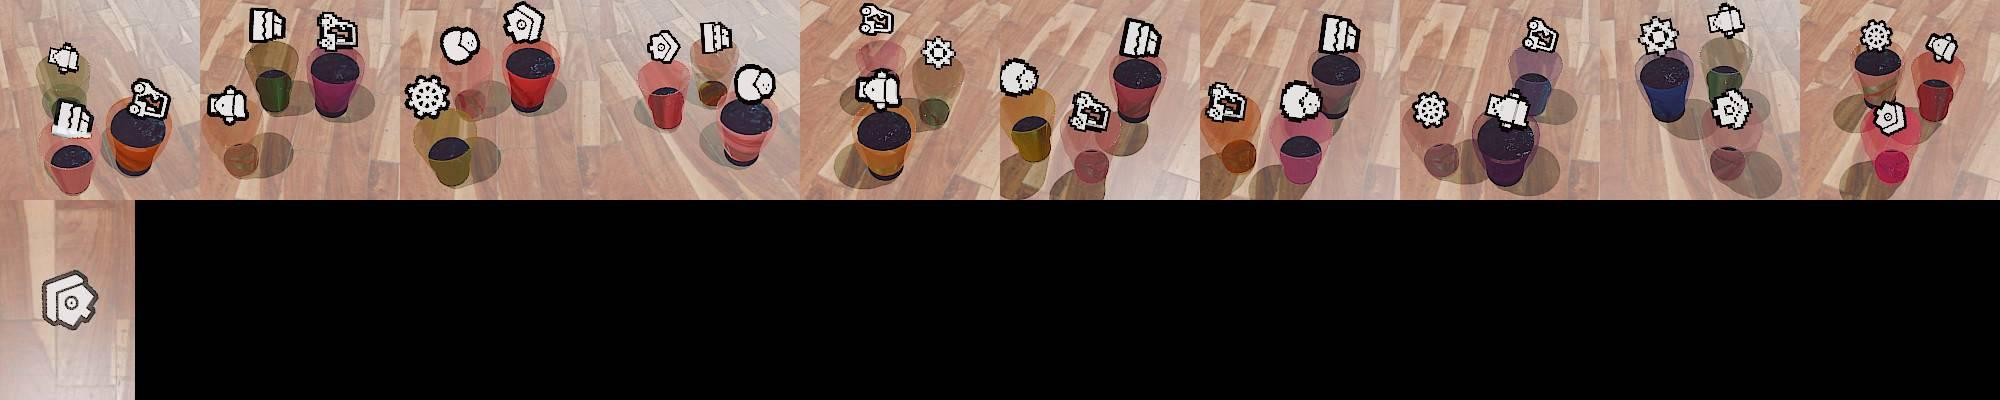icon: (38, 269, 98, 331), (403, 74, 452, 121), (854, 67, 903, 110), (1484, 87, 1534, 129), (128, 77, 172, 123), (502, 1, 546, 46), (1067, 89, 1111, 133), (1118, 17, 1162, 60), (50, 97, 95, 139), (1279, 80, 1323, 122), (1318, 14, 1360, 57), (733, 63, 776, 105), (1637, 15, 1679, 58), (1710, 88, 1753, 130), (316, 11, 358, 53), (208, 83, 249, 125), (1204, 80, 1243, 124), (999, 57, 1040, 97), (440, 26, 481, 65), (1522, 15, 1562, 54), (1410, 90, 1449, 128), (1706, 2, 1745, 39), (249, 7, 287, 44), (1872, 99, 1908, 135), (646, 28, 681, 65), (1858, 19, 1896, 53), (700, 20, 735, 55), (859, 3, 895, 37), (921, 35, 957, 69), (48, 42, 82, 75), (1924, 32, 1958, 63)
